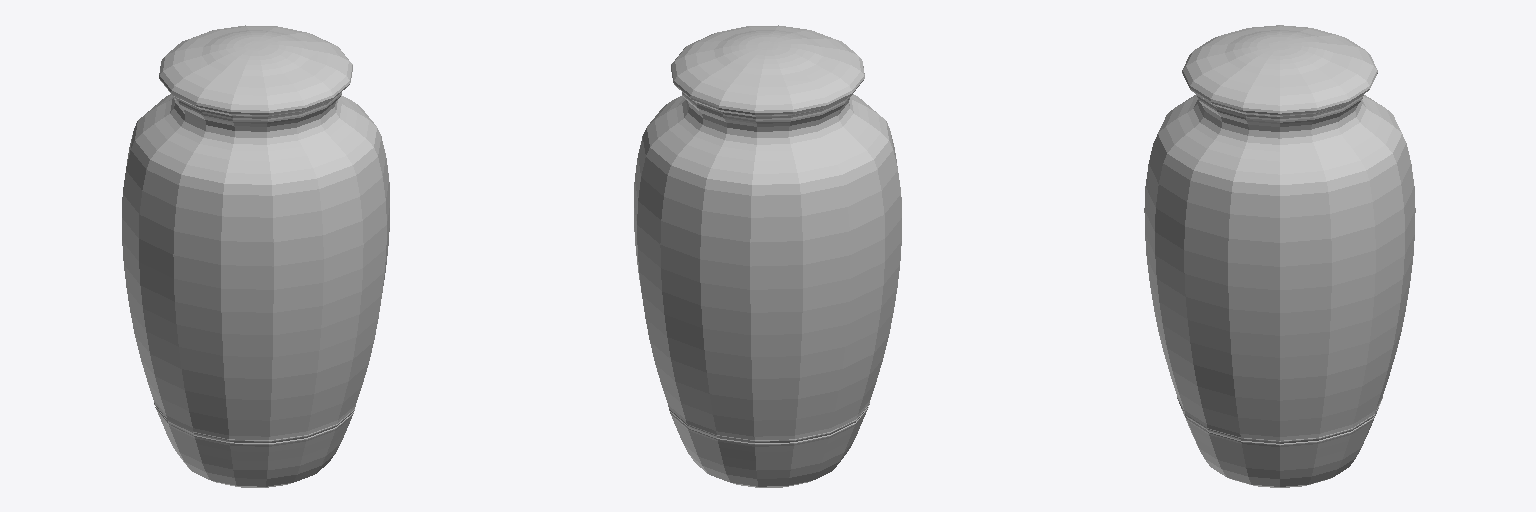
File: Urn.obj
3 renders of one model, left to right at view 1: azimuth 30°, elevation 25°; view 2: azimuth 150°, elevation 25°; view 3: azimuth 270°, elevation 25°, orthographic.
Visible parts, largest first — view 1: urn_low; view 2: urn_low; view 3: urn_low.
Part boxes in pixels (x1,y1,x2,y2): urn_low: (122,25,389,487); urn_low: (634,25,901,487); urn_low: (1144,25,1415,487).
Bounding box in the file's own units: 1.26 × 2.15 × 1.26.